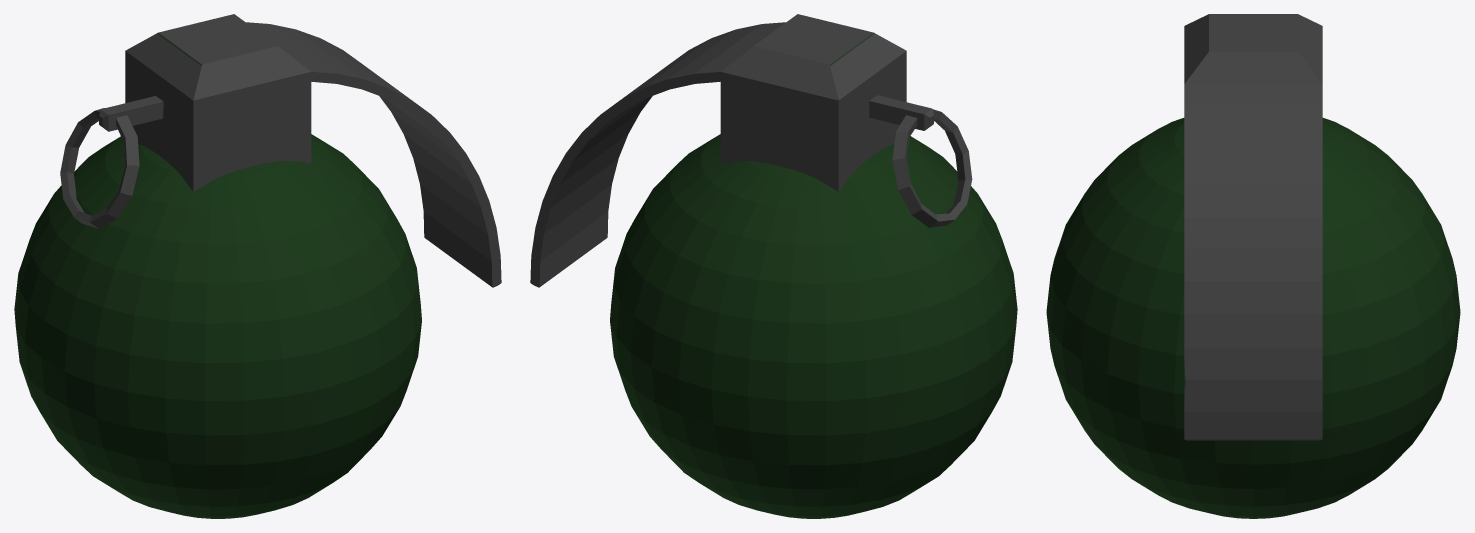
The model's file is Grenade.gltf.
3 renders of one model, left to right at view 1: azimuth 30°, elevation 25°; view 2: azimuth 150°, elevation 25°; view 3: azimuth 270°, elevation 25°, orthographic.
Parts seen in each view (by area): view 1: Grenade; view 2: Grenade; view 3: Grenade.
Boxes of the visible parts, x1=… form: Grenade: x1=14, y1=14, x2=501, y2=518; Grenade: x1=530, y1=14, x2=1017, y2=518; Grenade: x1=1046, y1=14, x2=1460, y2=518.
Bounding box in the file's own units: 0.1807 × 0.1867 × 0.15.
1 material, 1 textured.
